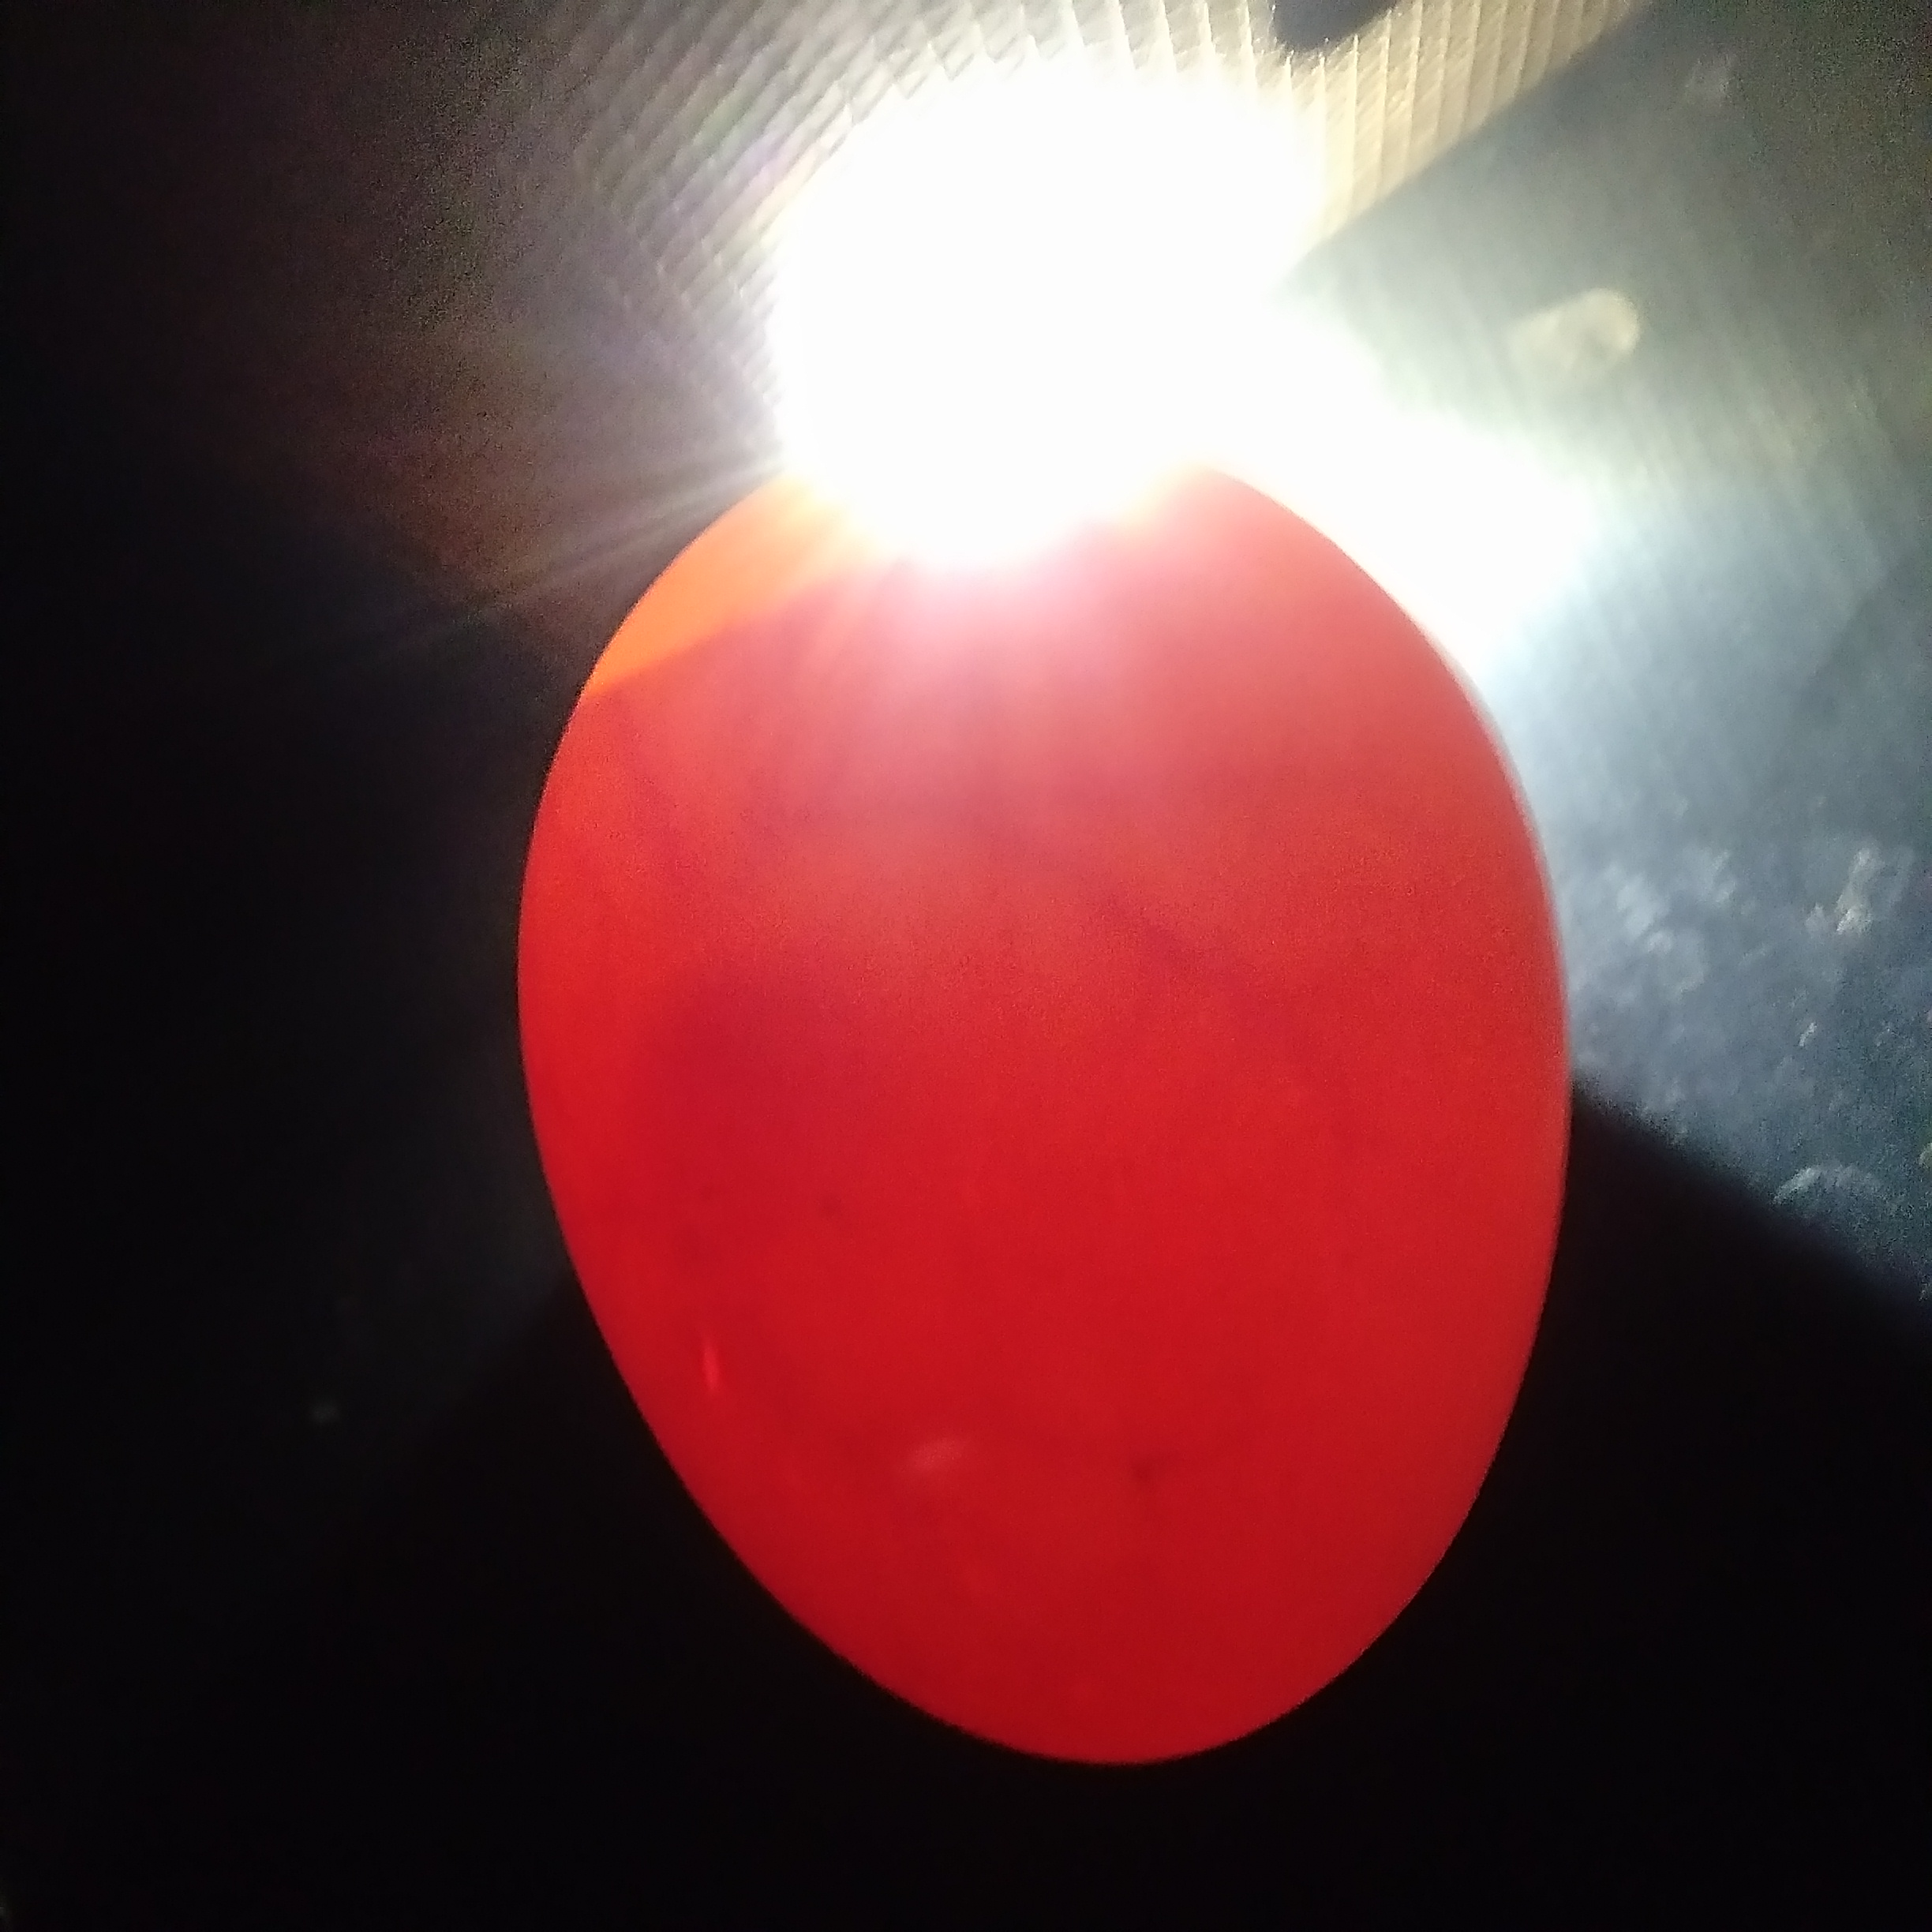bloodcell: (853, 619, 1467, 1265)
embryo: (626, 959, 821, 1196)
